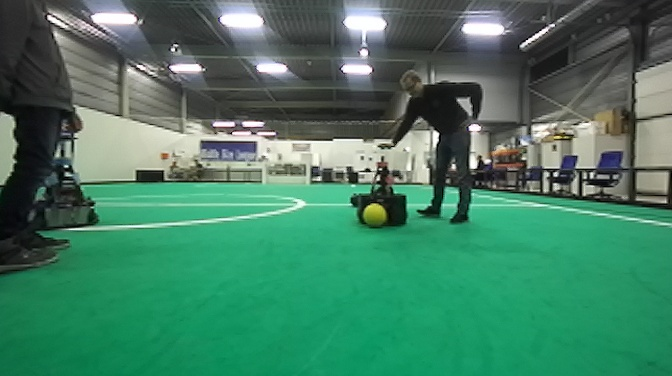ball: (362, 202, 387, 229)
goal: (261, 161, 311, 185)
goalpost: (261, 160, 267, 186), (305, 159, 309, 187)
human: (1, 1, 79, 278), (376, 69, 485, 228)
robot: (30, 112, 101, 227), (352, 143, 410, 227)
